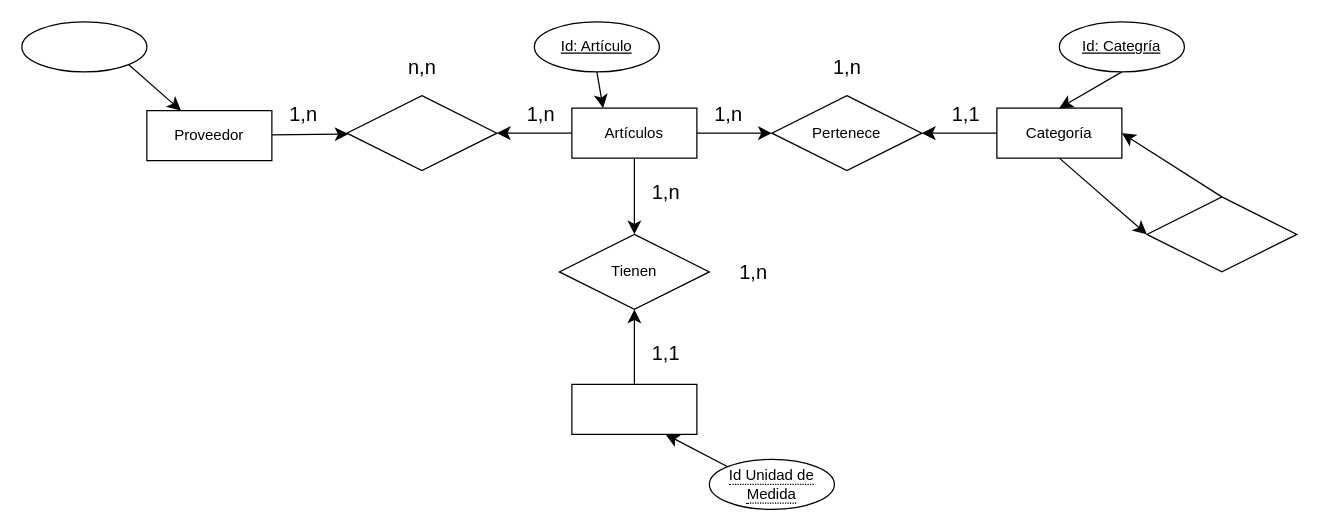
This 1319x531 diagram has some shape labels left out. The shapes that lost their labels are listed below. From the top down, each one's box as (x1, y1, x2, y2) in pixels, then its label:
(21, 21, 147, 72): id: Proveedores
(346, 94, 497, 171): Suministra
(1146, 196, 1297, 272): Tiene Jerarquias
(571, 383, 697, 434): Unidad de Medidas
